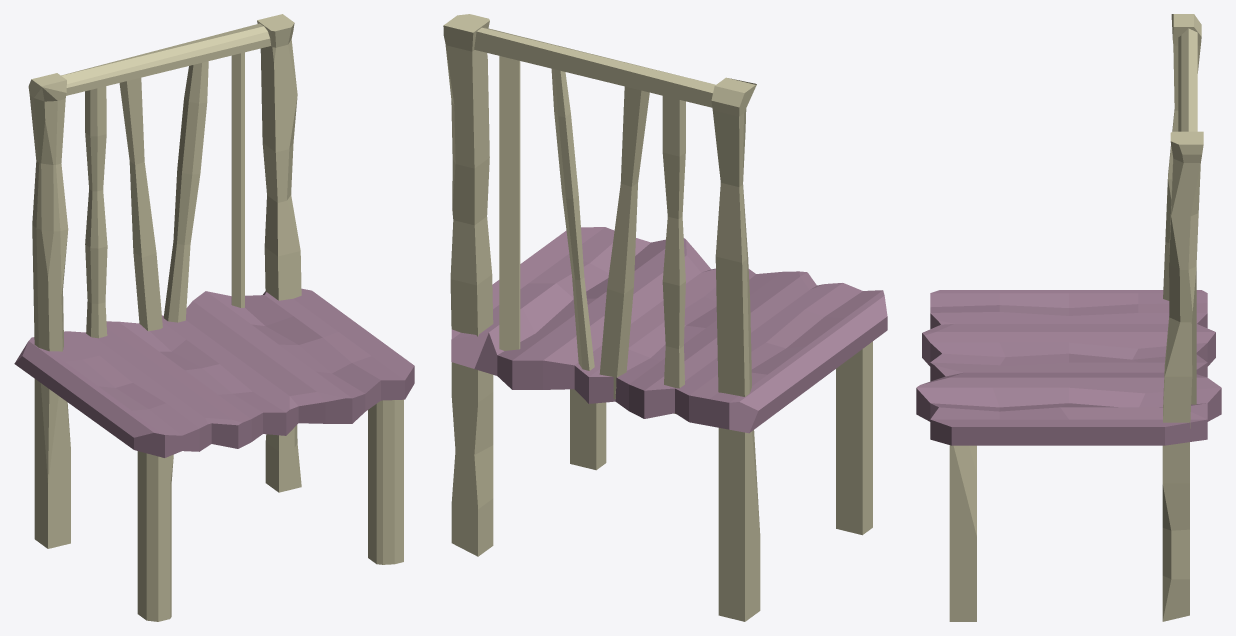
Rendered from Chair_3_Ping.fbx.
The picture shows the model from 3 angles, left to right: view 1: azimuth 30°, elevation 25°; view 2: azimuth 150°, elevation 25°; view 3: azimuth 270°, elevation 25°; orthographic projection. The views are drawn at different scales.
Visible parts, largest first — view 1: Cube.244, Cube.240, Cube.241, Cube.243, Cube.242, Cube.248, Cube.249, Cube.246, Cube.245, Cube.247; view 2: Cube.244, Cube.241, Cube.240, Cube.249, Cube.242, Cube.247, Cube.246, Cube.245, Cube.248, Cube.243; view 3: Cube.244, Cube.241, Cube.243, Cube.245, Cube.240, Cube.247.
Part boxes in pixels (left/top/right/bottom): Cube.244: left=14, top=288, right=414, bottom=457; Cube.240: left=28, top=73, right=70, bottom=548; Cube.241: left=257, top=14, right=301, bottom=492; Cube.243: left=368, top=399, right=403, bottom=564; Cube.242: left=137, top=451, right=173, bottom=621; Cube.248: left=163, top=61, right=208, bottom=322; Cube.249: left=119, top=77, right=162, bottom=331; Cube.246: left=85, top=86, right=107, bottom=338; Cube.245: left=61, top=23, right=270, bottom=95; Cube.247: left=231, top=52, right=244, bottom=307; Cube.244: left=451, top=227, right=887, bottom=433; Cube.241: left=443, top=14, right=493, bottom=556; Cube.240: left=711, top=77, right=760, bottom=621; Cube.249: left=599, top=86, right=649, bottom=399; Cube.242: left=836, top=341, right=872, bottom=535; Cube.247: left=499, top=56, right=520, bottom=350; Cube.246: left=662, top=96, right=685, bottom=414; Cube.245: left=474, top=27, right=715, bottom=107; Cube.248: left=551, top=68, right=594, bottom=370; Cube.243: left=570, top=389, right=606, bottom=470; Cube.244: left=916, top=290, right=1221, bottom=445; Cube.241: left=1162, top=131, right=1203, bottom=621; Cube.243: left=949, top=445, right=976, bottom=621; Cube.245: left=1178, top=28, right=1197, bottom=131; Cube.240: left=1163, top=14, right=1201, bottom=300; Cube.247: left=1191, top=267, right=1196, bottom=404.
Bounding box in the file's own units: 274 × 433 × 251.
